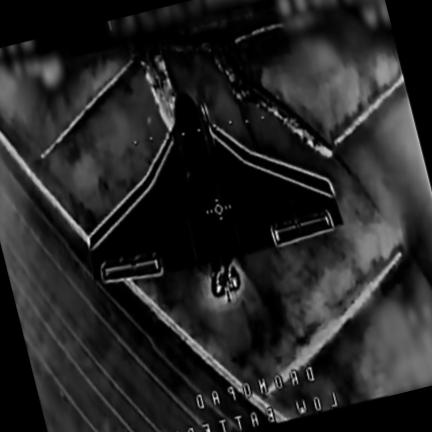Shahed: (88, 92, 342, 285)
